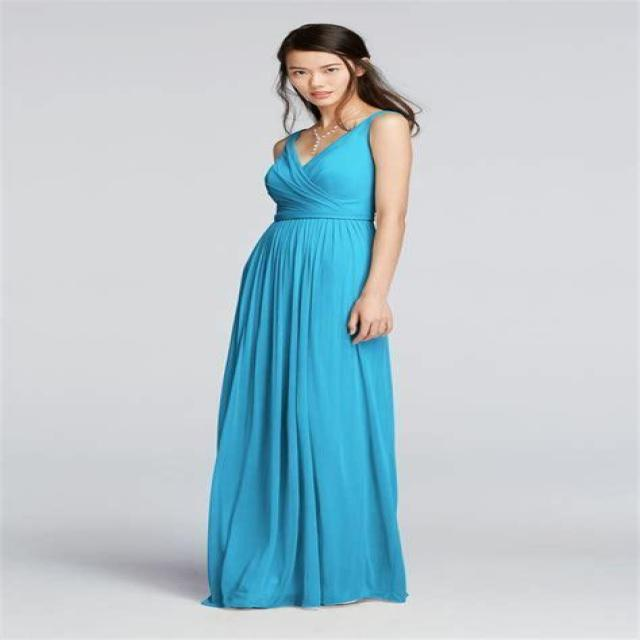dress: (205, 111, 408, 608)
